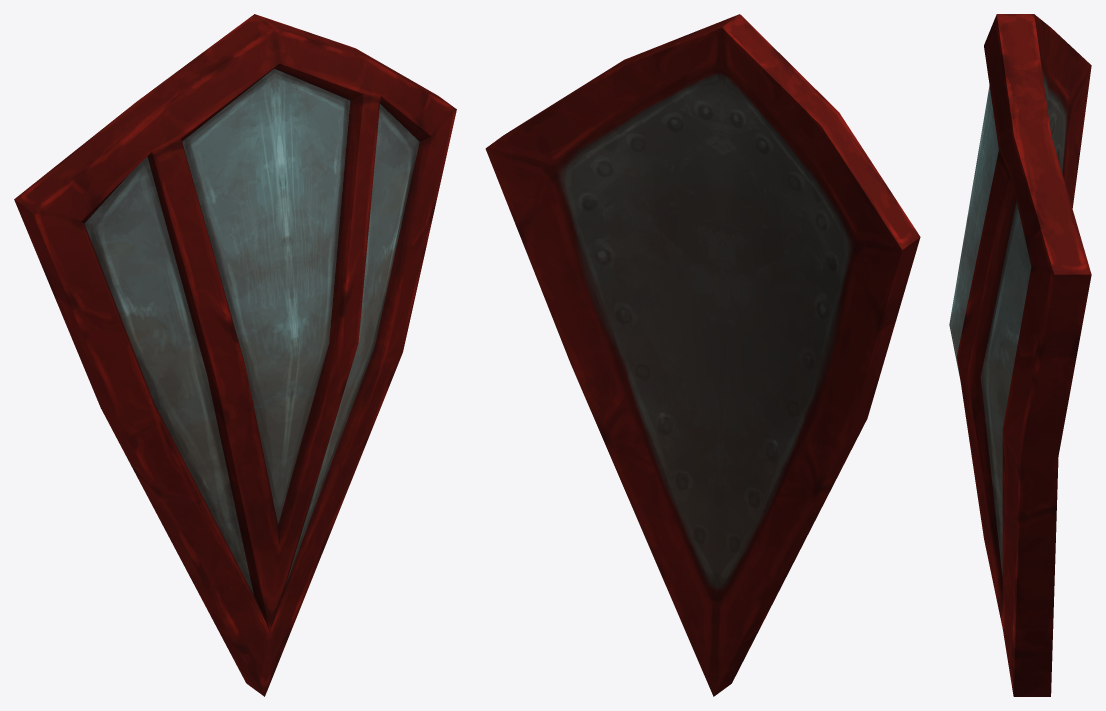
The model's file is shield_03.FBX.
The picture shows the model from 3 angles, left to right: view 1: azimuth 30°, elevation 25°; view 2: azimuth 150°, elevation 25°; view 3: azimuth 270°, elevation 25°; orthographic projection. The views are drawn at different scales.
Parts seen in each view (by area): view 1: shield_03; view 2: shield_03; view 3: shield_03.
Part boxes in pixels (bbox=[...]): shield_03: bbox=[14, 14, 456, 696]; shield_03: bbox=[485, 14, 920, 696]; shield_03: bbox=[949, 14, 1091, 696].
Size of the model in its own units: 35.3 by 53.7 by 10.14.
